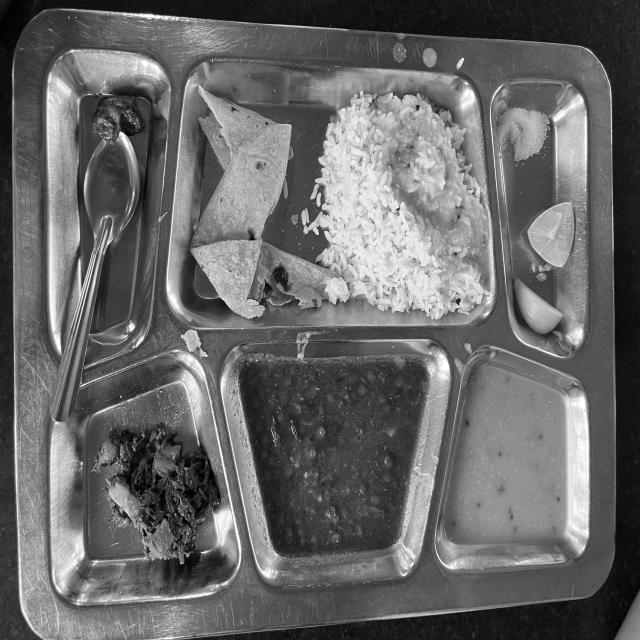50-Food-Left: (34, 26, 598, 586)
